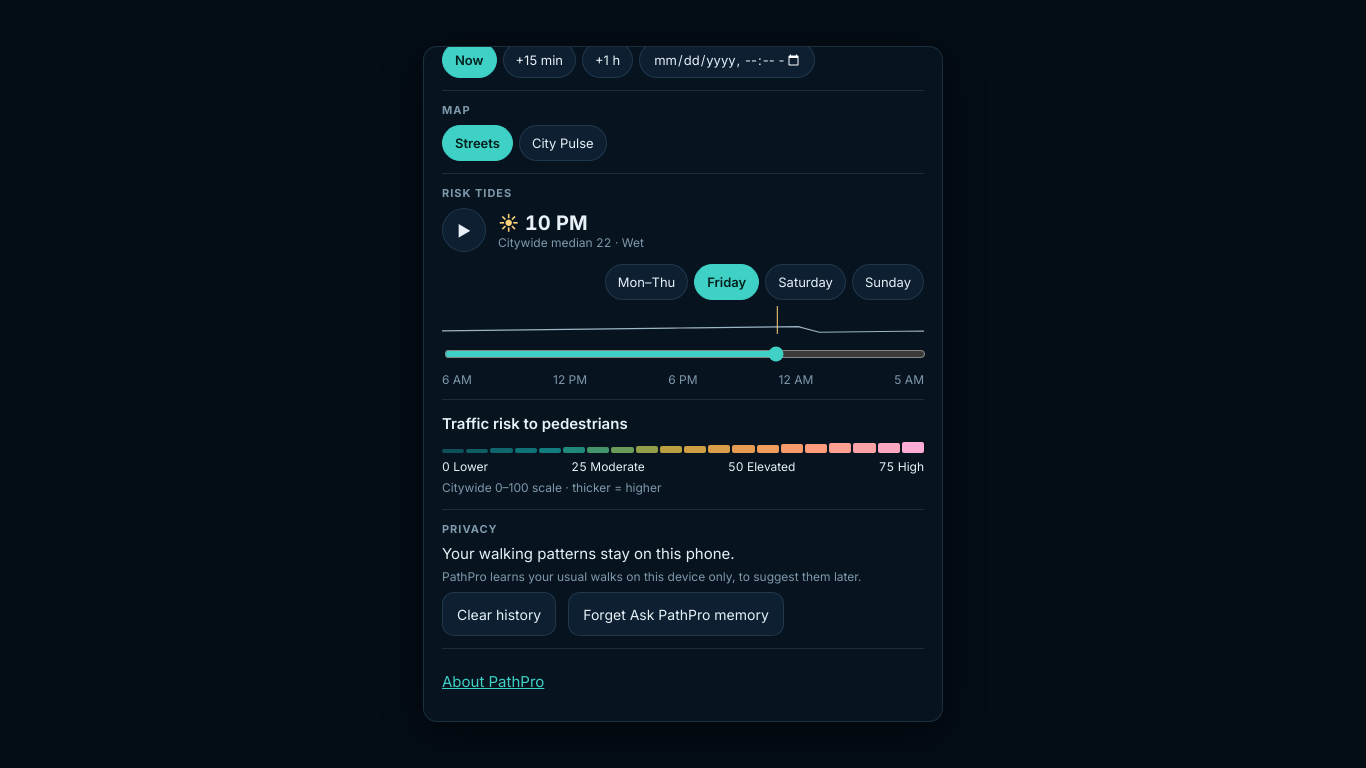
Test: OptionsSheet › Ask PathPro memory › forgets Ask PathPro memory next to Clear history and confirms it
The image size is (1366, 768).
(page scrolled)
Click the button "Forget Ask PathPro memory". click: [676, 614]
box: [568,592,784,636]
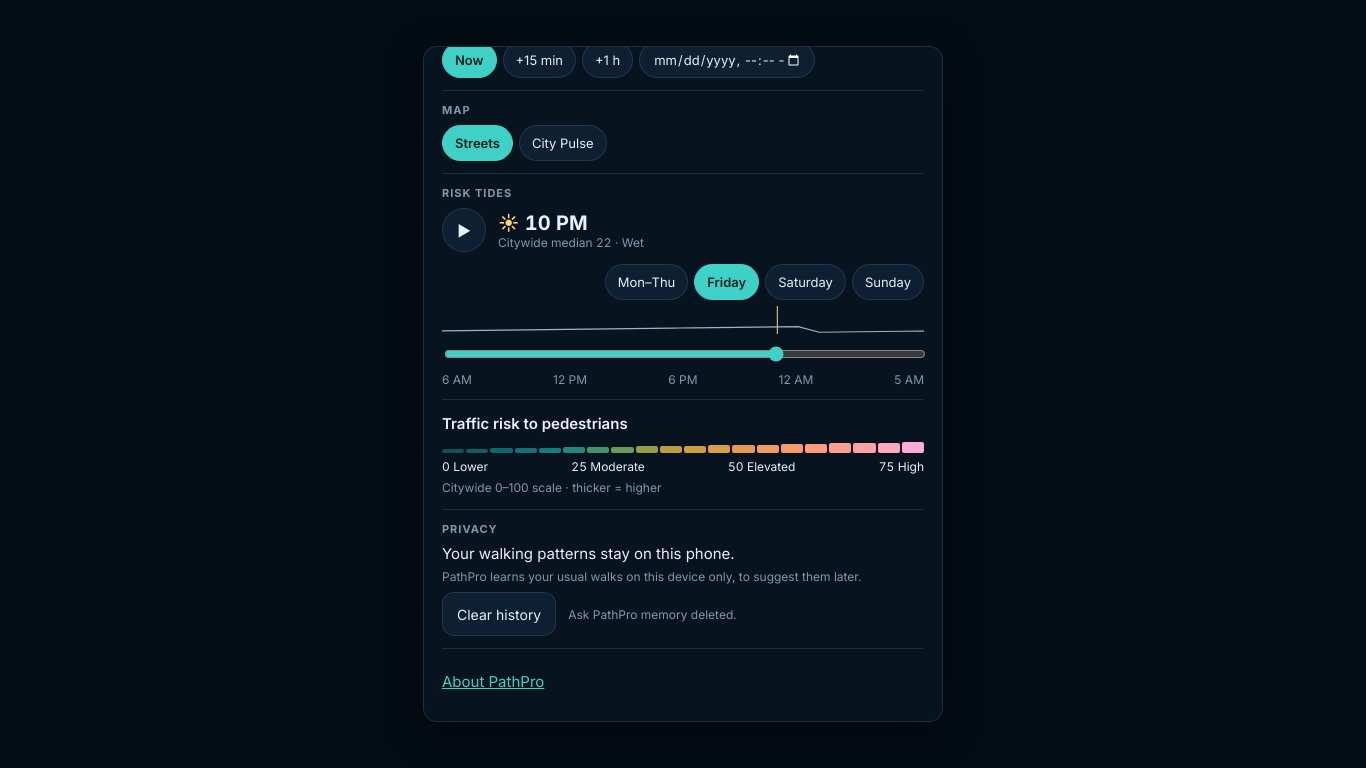
Expected: the message reads "Ask PathPro memory deleted.", [568,607,737,622]
Expected: the button "Forget Ask PathPro memory" is gone
